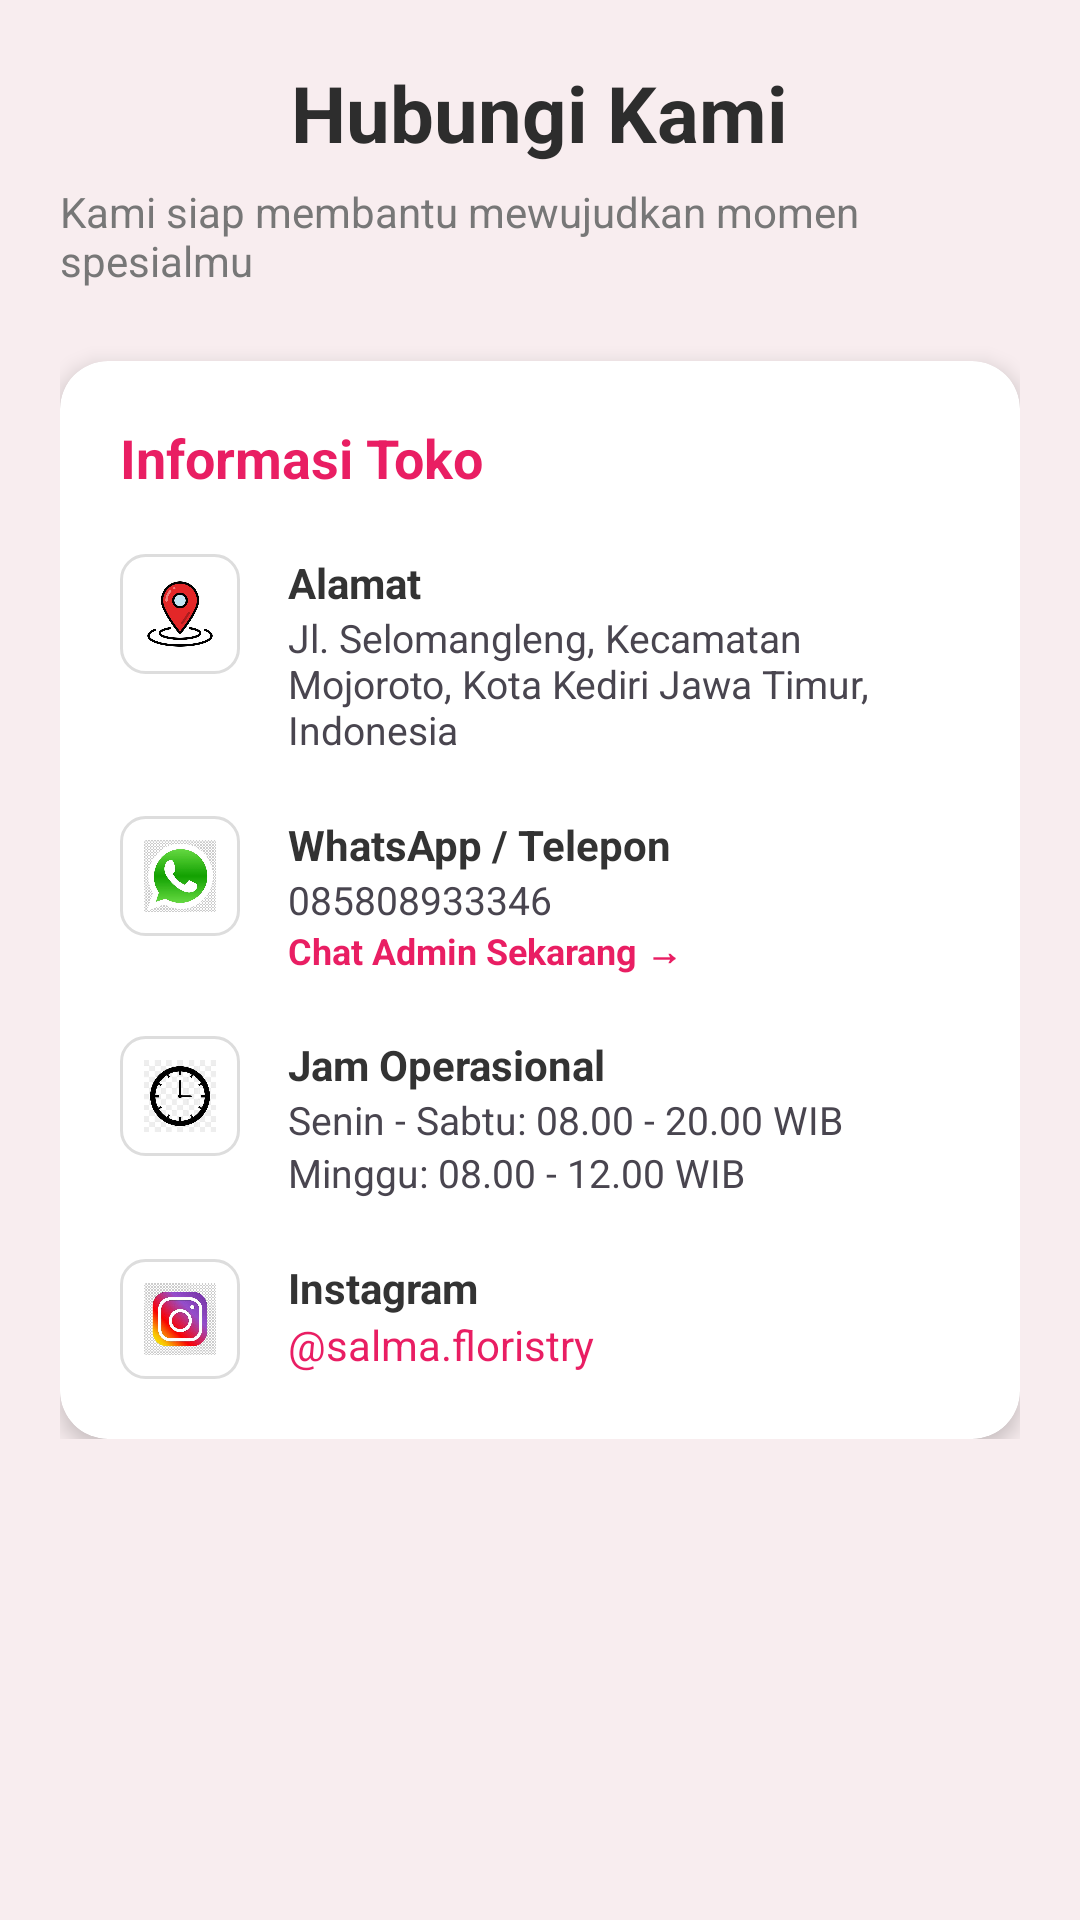

Where to tap for icons on this 1080×1920 app screen, as point (x, y):
lokasi: point (180, 614)
